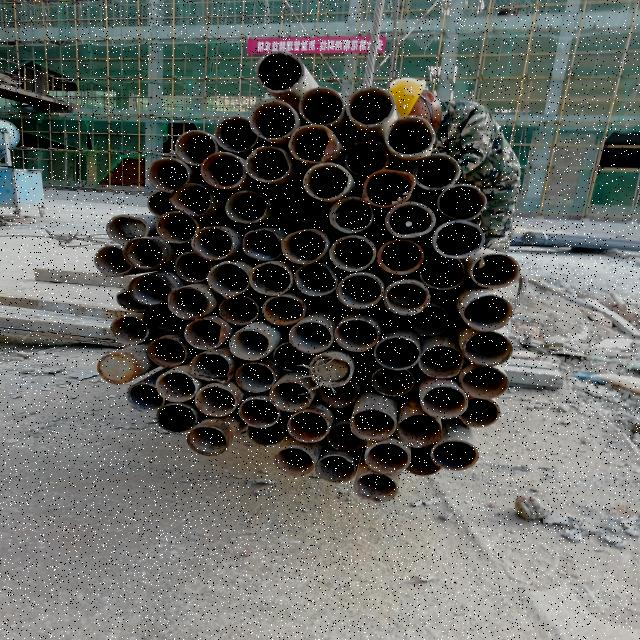pipe: (462, 294, 514, 332), (255, 51, 303, 92), (250, 100, 298, 141), (388, 116, 436, 156), (304, 162, 354, 200), (346, 87, 394, 126), (436, 184, 488, 220), (289, 124, 337, 162), (365, 169, 414, 206), (464, 332, 514, 368), (414, 153, 463, 189), (205, 260, 251, 298), (436, 221, 484, 257), (395, 414, 443, 450), (388, 202, 435, 238), (378, 240, 424, 276), (300, 86, 342, 125), (472, 254, 520, 288), (344, 140, 389, 176), (331, 236, 376, 272), (337, 273, 382, 309), (421, 256, 468, 290), (385, 282, 432, 316), (374, 338, 421, 372), (421, 385, 468, 419), (349, 408, 396, 442), (247, 146, 291, 182), (330, 196, 374, 232), (461, 368, 510, 400), (419, 345, 465, 379), (176, 129, 218, 166), (215, 117, 258, 153), (364, 442, 412, 474), (202, 152, 244, 188), (284, 229, 326, 265), (403, 439, 445, 475), (104, 214, 148, 248), (268, 379, 313, 412), (148, 156, 189, 192), (295, 263, 338, 297), (226, 190, 270, 223), (191, 227, 235, 260), (308, 354, 352, 387), (288, 322, 333, 354), (171, 182, 213, 216), (124, 236, 166, 270), (431, 440, 478, 470), (248, 264, 292, 296), (336, 320, 380, 352), (167, 288, 210, 320), (369, 367, 414, 397), (280, 190, 322, 222), (128, 274, 170, 306), (288, 412, 330, 444), (410, 306, 454, 336), (272, 342, 314, 373), (194, 386, 237, 416), (243, 229, 282, 262), (157, 211, 197, 243), (93, 244, 133, 276), (218, 294, 258, 326), (228, 330, 270, 360), (188, 353, 230, 383), (238, 398, 280, 428), (174, 251, 213, 283), (263, 294, 302, 326), (355, 475, 399, 503), (458, 398, 501, 426), (142, 304, 182, 334), (110, 314, 150, 344), (188, 426, 228, 456), (315, 454, 355, 484), (184, 319, 222, 350), (157, 371, 195, 402), (276, 447, 314, 478), (237, 362, 274, 393), (326, 422, 366, 450), (316, 382, 358, 408), (98, 355, 134, 385), (128, 383, 164, 413), (147, 338, 185, 366), (158, 404, 196, 432), (246, 422, 286, 444), (148, 190, 178, 217), (117, 287, 147, 313)
